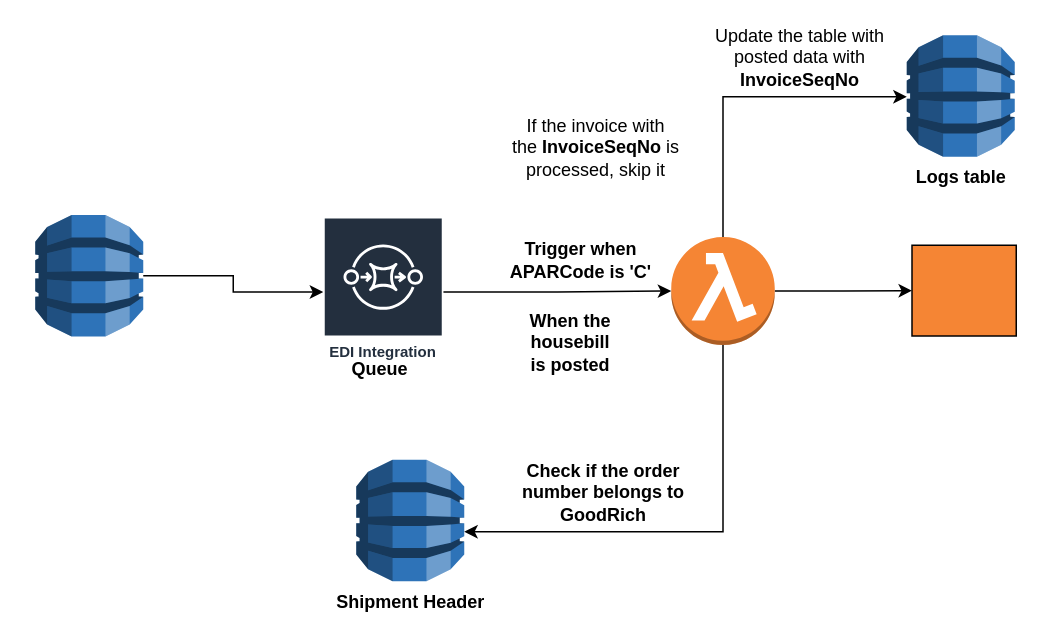
This 1043x639 diagram has some shape labels left out. Here are the shapes that lost their labels. From the top down, the centre of each, then its label:
the point at 88,274: Shipment Apar
the point at 963,290: Cleo
